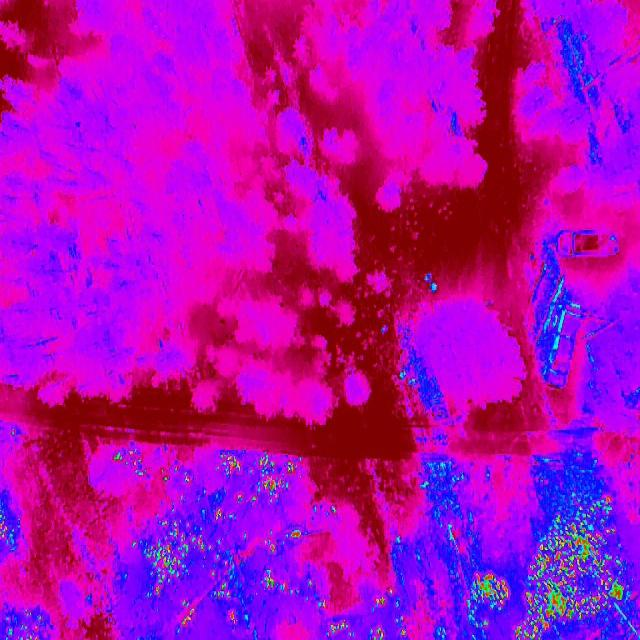fire: (133, 457, 335, 622), (518, 497, 640, 640), (461, 568, 512, 630), (320, 611, 394, 640), (108, 447, 150, 483), (0, 506, 19, 552)
